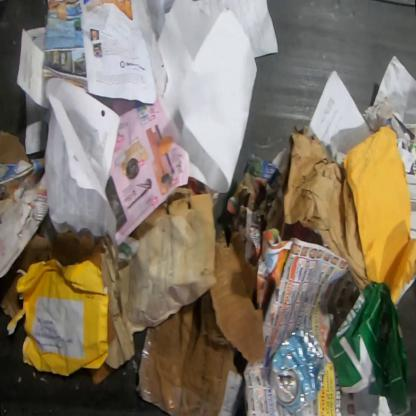cardboard: (114, 186, 216, 334), (283, 131, 370, 293), (136, 288, 244, 415), (342, 124, 415, 307), (6, 258, 110, 376), (328, 280, 411, 416), (209, 223, 266, 365), (0, 172, 49, 278), (52, 230, 104, 269)
metal: (267, 328, 328, 415)
